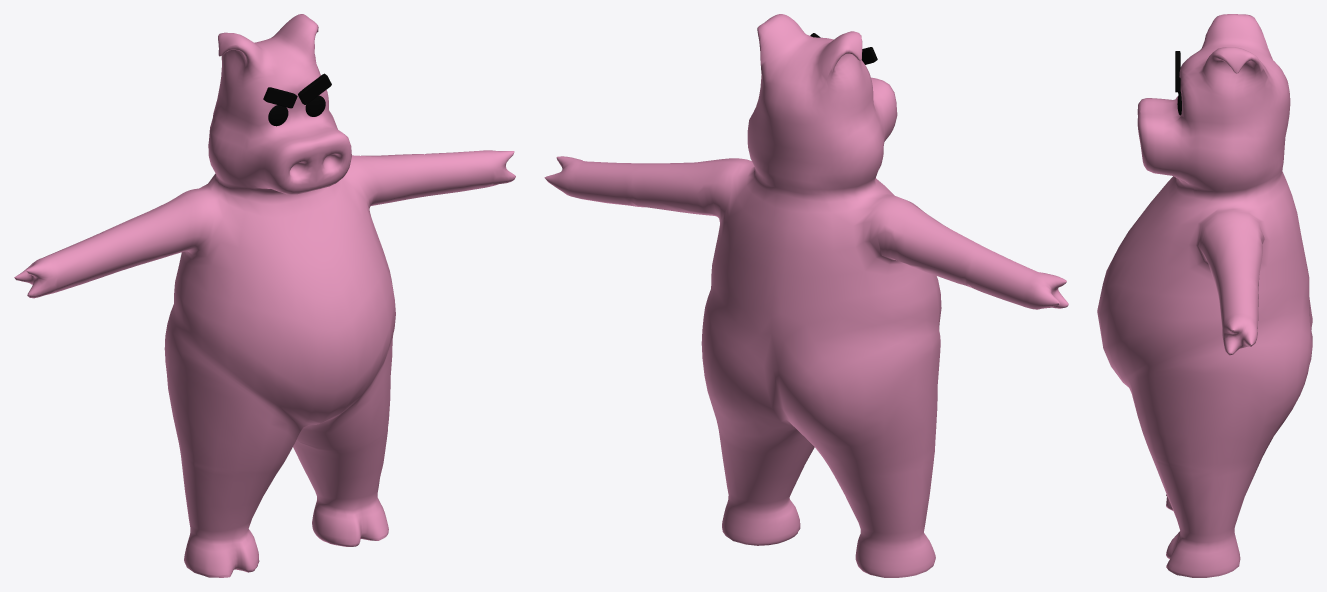
Rendered from mixamoRun.fbx.
The picture shows the model from 3 angles, left to right: view 1: azimuth 30°, elevation 25°; view 2: azimuth 150°, elevation 25°; view 3: azimuth 270°, elevation 25°; orthographic projection. The views are drawn at different scales.
Parts seen in each view (by area): view 1: Plane.001; view 2: Plane.001; view 3: Plane.001.
Boxes of the visible parts, bbox=[...] form: Plane.001: bbox=[14, 14, 515, 577]; Plane.001: bbox=[544, 14, 1068, 577]; Plane.001: bbox=[1097, 14, 1312, 577].
Size of the model in its own units: 167 by 165 by 64.01.
